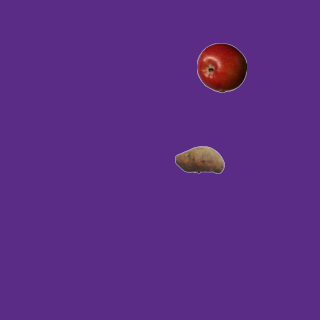Apple Braeburn: (196, 42, 246, 92)
Potato Sweet: (174, 134, 224, 184)
